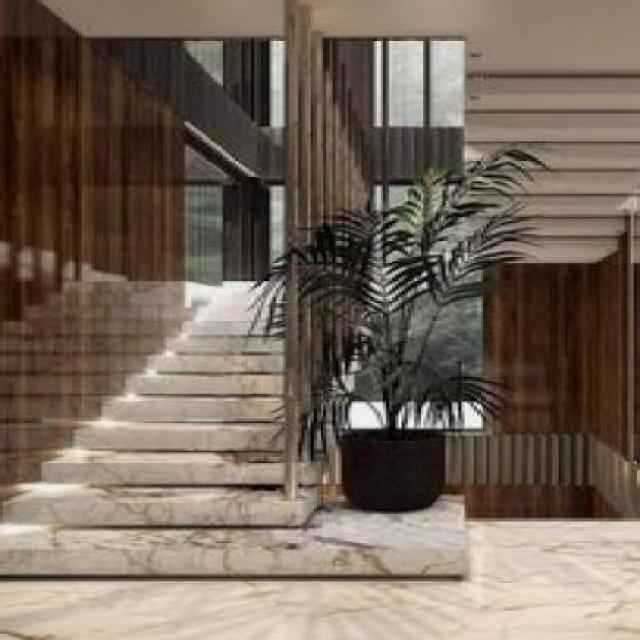stair: (0, 255, 377, 598)
